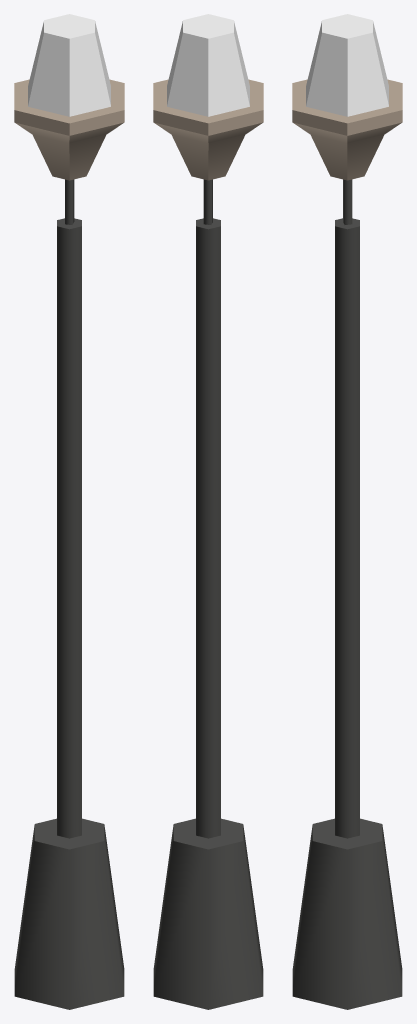
File: light_2.fbx
3 renders of one model, left to right at view 1: azimuth 30°, elevation 25°; view 2: azimuth 210°, elevation 25°; view 3: azimuth 330°, elevation 25°, orthographic.
Parts seen in each view (by area): view 1: light_2; view 2: light_2; view 3: light_2.
Boxes of the visible parts, <box> form: light_2: <box>14,14,124,1009</box>; light_2: <box>153,14,263,1009</box>; light_2: <box>292,14,402,1009</box>.
Bounding box in the file's own units: 24.46 × 203 × 21.18.
Materials: 1 (1 with a texture image).
